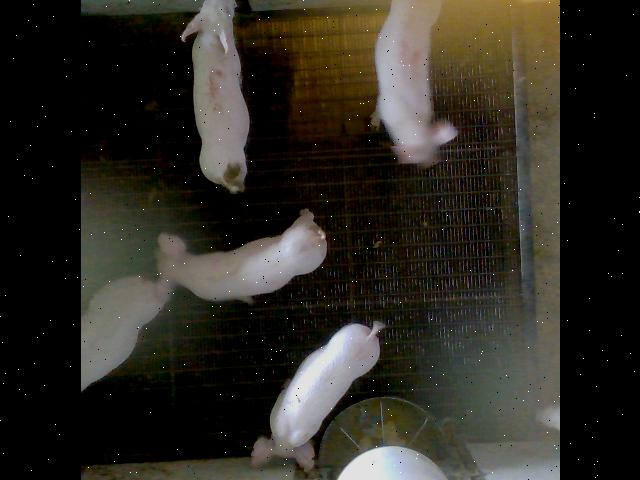pig-4: (370, 0, 456, 165)
pig-5: (180, 0, 248, 194)
